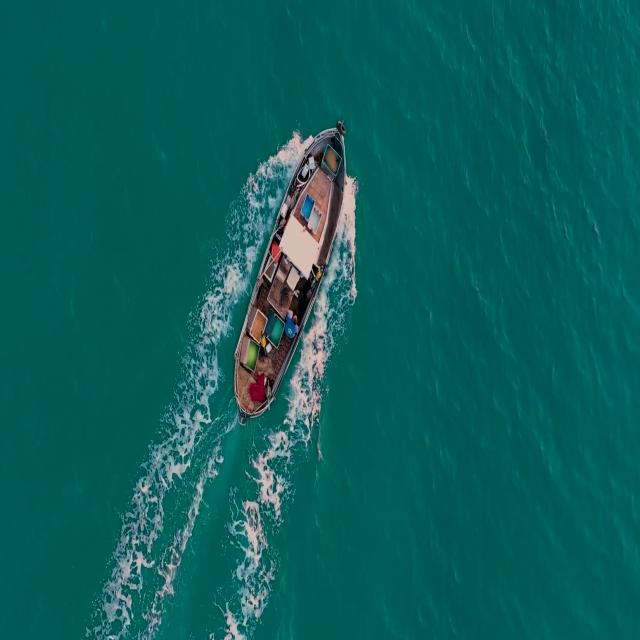ship: (226, 115, 352, 415)
